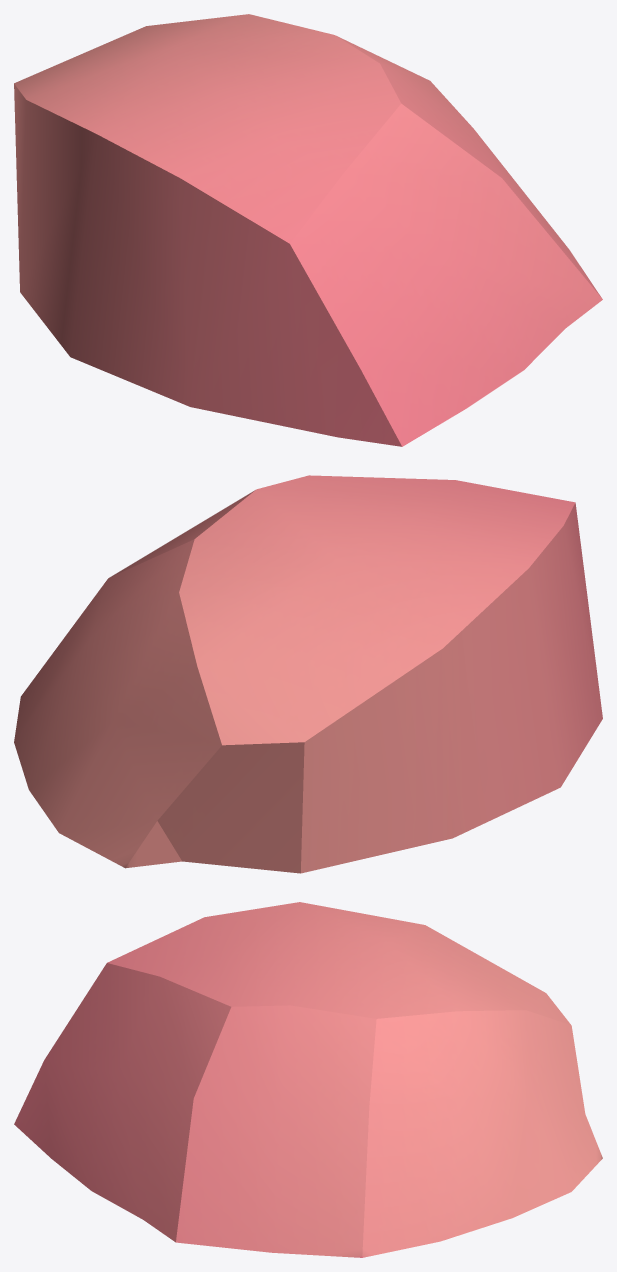
The model's file is Sunset_Stone_003.FBX.
3 views of the same model, one above another, from view 1: azimuth 30°, elevation 25°; view 2: azimuth 150°, elevation 25°; view 3: azimuth 270°, elevation 25° (orthographic). The views are drawn at different scales.
Parts seen in each view (by area): view 1: Sunset_Stone_003; view 2: Sunset_Stone_003; view 3: Sunset_Stone_003.
Part boxes in pixels (x1,y1,x2,y2): Sunset_Stone_003: [14, 14, 602, 446]; Sunset_Stone_003: [14, 475, 602, 873]; Sunset_Stone_003: [14, 902, 602, 1257].
Size of the model in its own units: 161 by 70.46 by 205.
Materials: 1 (1 with a texture image).
